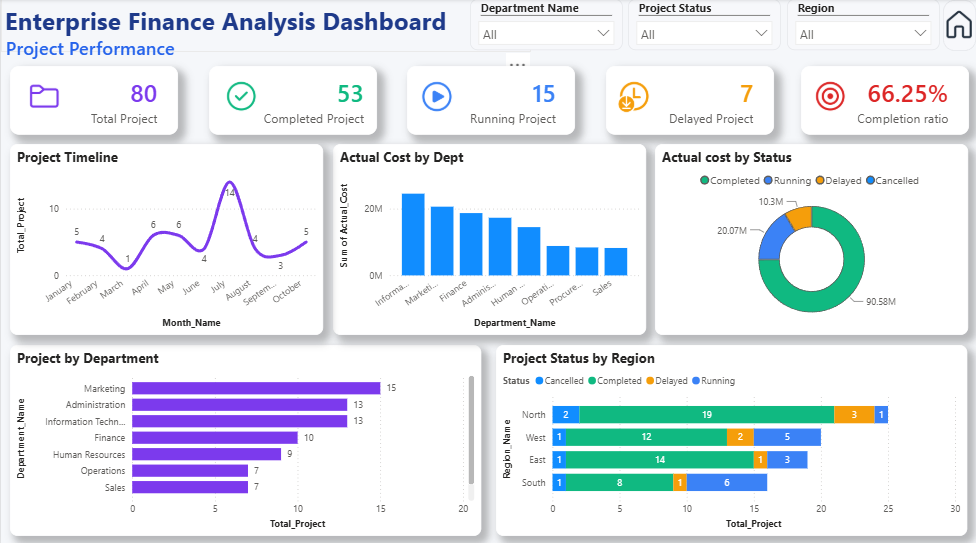

This screenshot's page, from the dashboard's own definition file:
{"tool":"powerbi","page":{"name":"Project Performance ","canvas":[1280,720],"ordinal":4},"visuals":[{"type":"textbox","box":[0,0,693.3,70],"z":0},{"type":"shape","box":[1232.3,1.1,43.3,66.7],"z":0,"group":"g1"},{"type":"image","box":[1229,12.2,50,44.4],"z":1000,"group":"g1"},{"type":"cardVisual","fields":{"Data":["projects.Total_Project"]},"box":[12.4,88.3,220,90],"z":1000},{"type":"cardVisual","fields":{"Data":["projects.Delayed_Project"]},"box":[791.9,88.3,220,90],"z":2000},{"type":"cardVisual","fields":{"Data":["projects.Complition ratio"]},"box":[1046.7,88.3,220,90],"z":3000},{"type":"cardVisual","fields":{"Data":["projects.Completed_Project"]},"box":[272.2,88.3,220,90],"z":4000},{"type":"textbox","box":[1.7,41.7,491.7,41.7],"z":5000},{"type":"cardVisual","fields":{"Data":["projects.Running Project"]},"box":[532,88.3,220,90],"z":6000},{"type":"clusteredBarChart","title":"Project by Department","fields":{"Category":["department.Department_Name"],"Y":["projects.Total_Project"]},"box":[11.7,453.3,617,250],"z":7000},{"type":"columnChart","title":"Actual Cost by Dept","fields":{"Category":["department.Department_Name"],"Y":["Sum(projects.Actual_Cost)"]},"box":[434.2,190,410,250],"z":8000},{"type":"donutChart","title":"Actual cost by Status","fields":{"Category":["projects.Status"],"Y":["Sum(projects.Actual_Cost)"]},"box":[856.7,190,410,250],"z":9000},{"type":"barChart","title":"Project Status by Region","fields":{"Category":["region.Region_Name"],"Series":["projects.Status"],"Y":["projects.Total_Project"]},"box":[648.3,453.3,617,250],"z":10000},{"type":"lineChart","title":"Project Timeline","fields":{"Category":["calendar.Month_Name"],"Y":["projects.Total_Project"]},"box":[11.7,190,410,250],"z":11000},{"type":"image","box":[26.7,105.1,60,45],"z":15000},{"type":"image","box":[283.6,105.1,60,45],"z":16000},{"type":"image","box":[540.6,105.1,60.5,46.1],"z":17000},{"type":"image","box":[798,105.1,60,45],"z":18000},{"type":"image","box":[1055,105.1,60,45],"z":19000},{"type":"slicer","fields":{"Values":["region.Region_Name"]},"box":[613.3,0,200,66.7],"z":19001},{"type":"slicer","fields":{"Values":["projects.Status"]},"box":[821.1,0,200,66.7],"z":19002},{"type":"slicer","fields":{"Values":["region.Region_Name"]},"box":[1028.9,0,200,66.7],"z":19003},{"type":"group","id":"g1","title":"Group 1","box":[1229,1.1,50,66.7],"z":20000}]}

Visuals, with their boxes in screenshot pixels (x1, y1, x2, y2), scaled from the page's 1280x720 canvas onto the 976x543 screenshot:
textbox: <box>0,0,529,53</box>
shape: <box>940,1,973,51</box>
image: <box>937,9,975,43</box>
cardVisual - projects.Total_Project: <box>9,67,177,134</box>
cardVisual - projects.Delayed_Project: <box>604,67,772,134</box>
cardVisual - projects.Complition ratio: <box>798,67,966,134</box>
cardVisual - projects.Completed_Project: <box>208,67,375,134</box>
textbox: <box>1,31,376,63</box>
cardVisual - projects.Running Project: <box>406,67,573,134</box>
"Project by Department" clusteredBarChart: <box>9,342,479,530</box>
"Actual Cost by Dept" columnChart: <box>331,143,644,332</box>
"Actual cost by Status" donutChart: <box>653,143,966,332</box>
"Project Status by Region" barChart: <box>494,342,965,530</box>
"Project Timeline" lineChart: <box>9,143,322,332</box>
image: <box>20,79,66,113</box>
image: <box>216,79,262,113</box>
image: <box>412,79,458,114</box>
image: <box>608,79,654,113</box>
image: <box>804,79,850,113</box>
slicer - region.Region_Name: <box>468,0,620,50</box>
slicer - projects.Status: <box>626,0,779,50</box>
slicer - region.Region_Name: <box>785,0,937,50</box>
"Group 1" group: <box>937,1,975,51</box>
